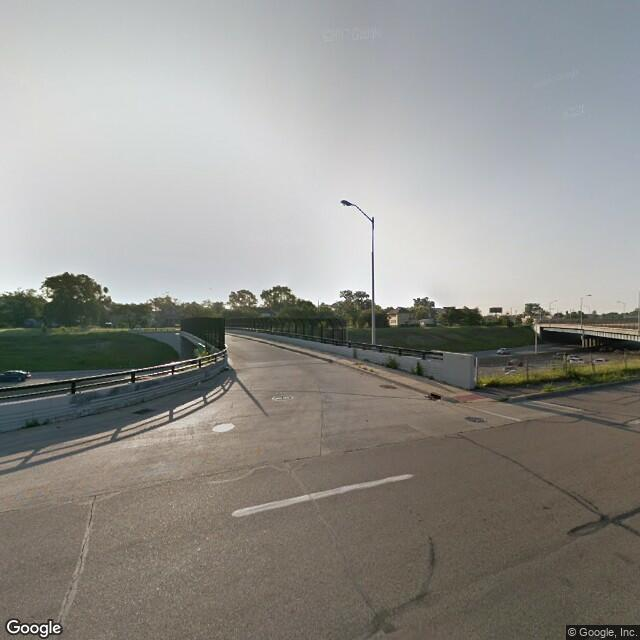litter: (226, 365, 232, 371), (424, 392, 430, 398)
